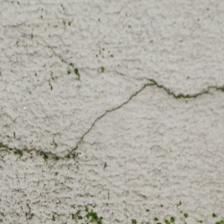Crack: (35, 38, 189, 114)
